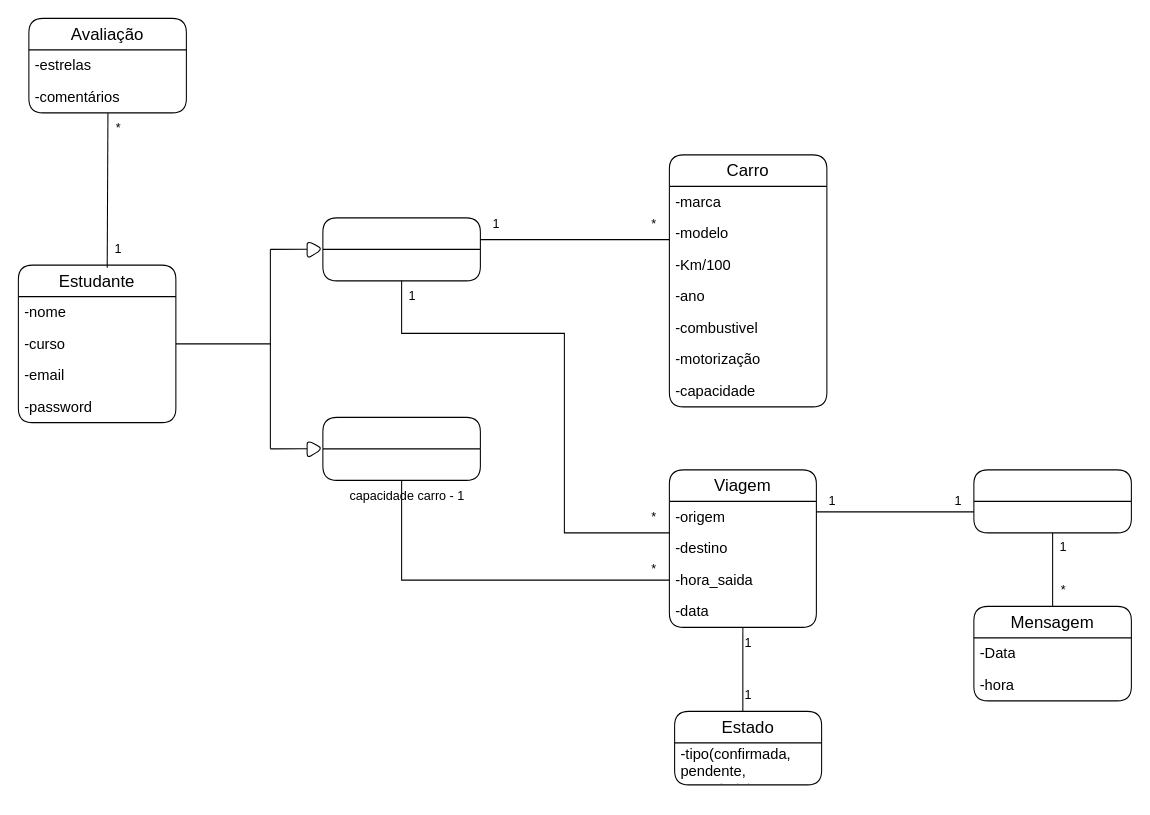
Some shapes in this 1150 by 815 pixel diagram are drawn without their labels. Here are the shapes that lost their labels. From the top down, the centre of each, then its label:
At [401,249]: "Condutor".
At [401,448]: "Passageiro".
At [1052,501]: "Chat".
